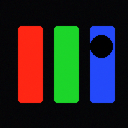2 circle: (90, 35, 112, 57)
